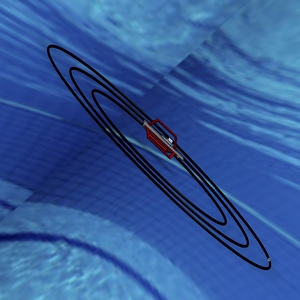circle: (37, 34, 285, 277)
submarine: (137, 111, 191, 174)
